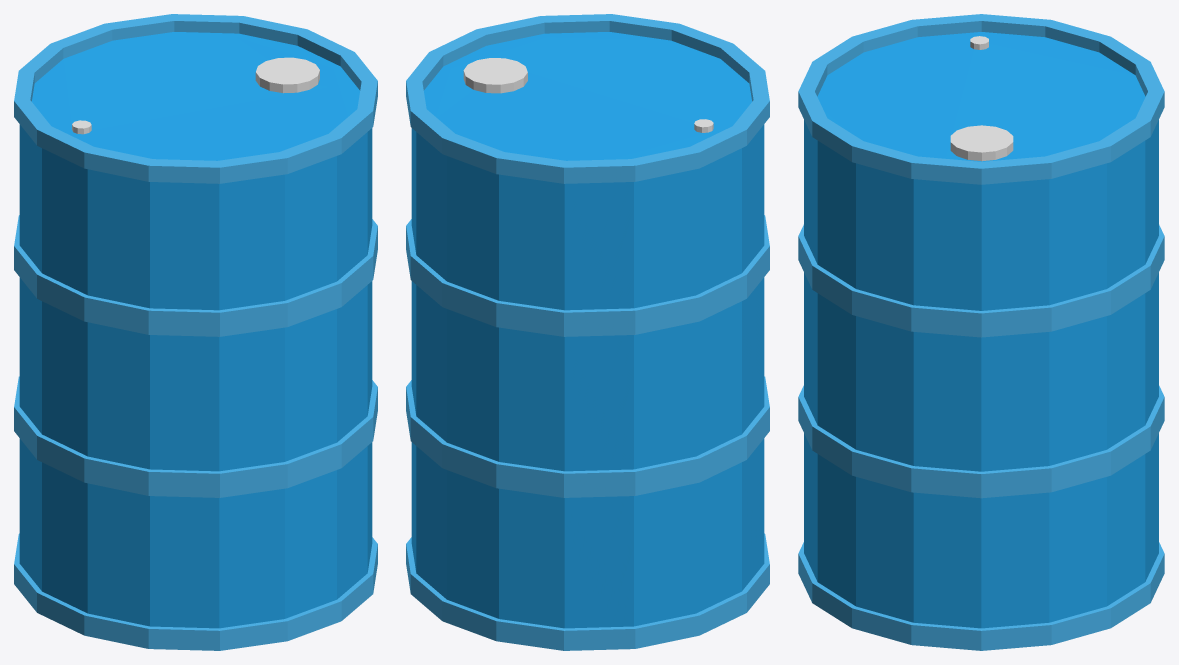
File: WaterBarrel.fbx
3 views of the same model, side by side, from view 1: azimuth 30°, elevation 25°; view 2: azimuth 150°, elevation 25°; view 3: azimuth 270°, elevation 25° (orthographic).
Visible parts, largest first — view 1: Cylinder; view 2: Cylinder; view 3: Cylinder.
Boxes of the visible parts, x1,y1,x2,y2 form: Cylinder: (14, 14, 377, 650); Cylinder: (406, 14, 769, 650); Cylinder: (798, 14, 1164, 650).
Size of the model in its own units: 206 by 300 by 206.
